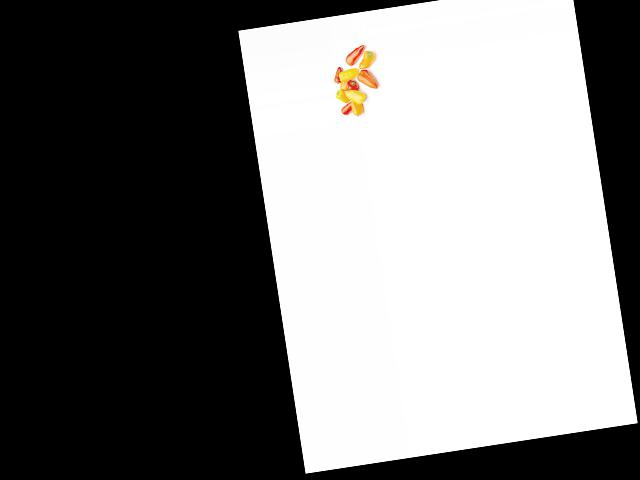bell_pepper: (331, 64, 343, 85)
